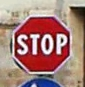stop: (9, 12, 72, 75)
